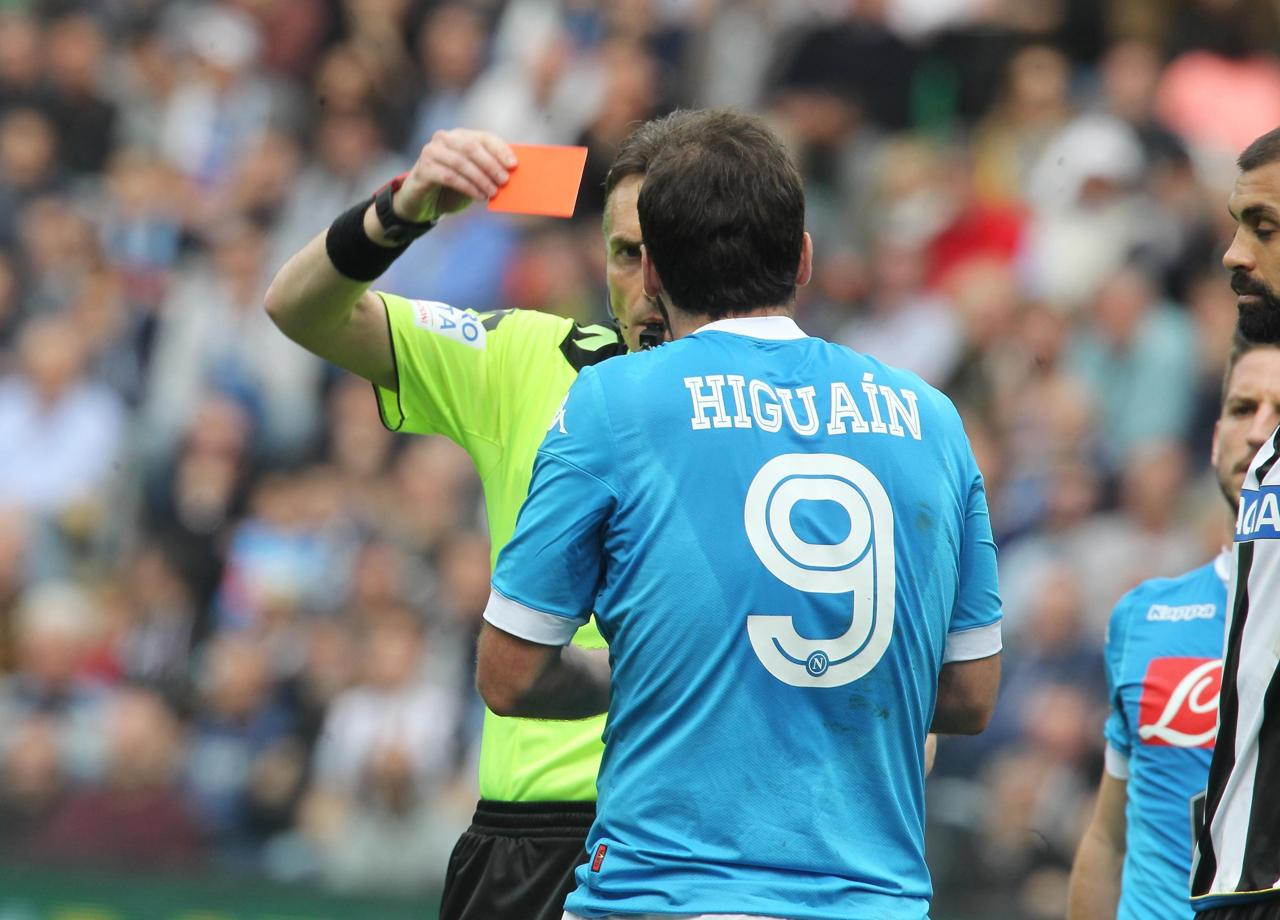red_card: (403, 105, 600, 243)
